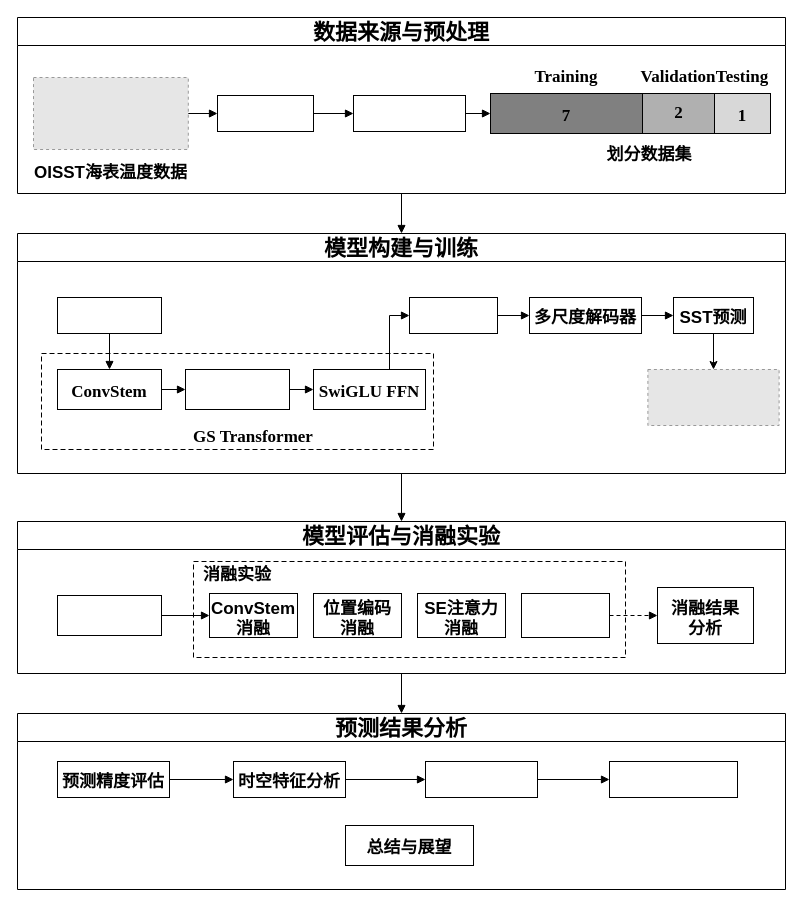
The diagram is 803 pixels wide and 907 high, and some of its shapes have lost their labels. Grey dashed boxes stand in for pictures. Here are the shapes that lost their labels. From the top down, the centre of each, then its label:
[265,113]: 数据预处理
[409,113]: 时间序列构建
[109,315]: SST时间序列
[453,315]: 时序聚合
[237,389]: GSAttention
[109,615]: 模型精度评价
[565,615]: 门控机制 消融
[481,779]: 基线模型对比
[673,779]: 预测结果可视化
